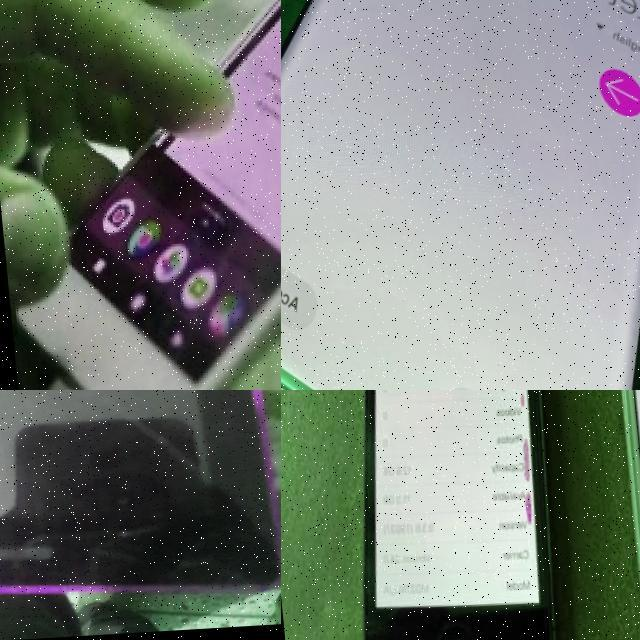dead pixel: (488, 390, 540, 548)
screen crack: (0, 390, 264, 597)
